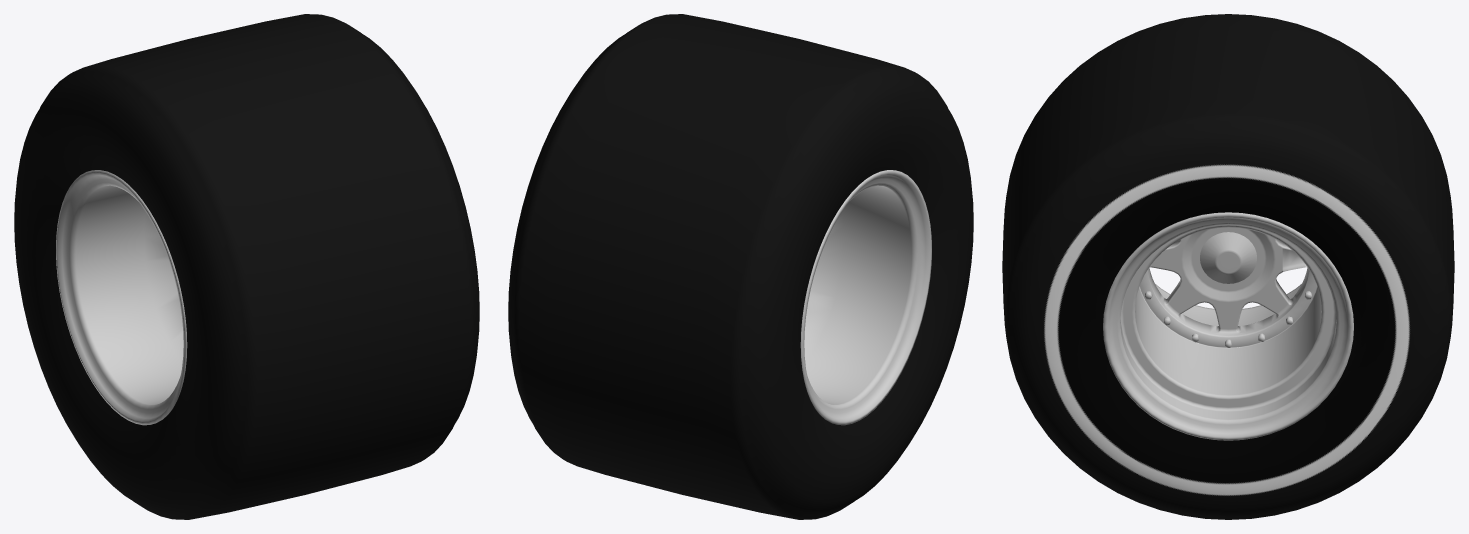
File: Wheel.fbx
3 renders of one model, left to right at view 1: azimuth 30°, elevation 25°; view 2: azimuth 150°, elevation 25°; view 3: azimuth 270°, elevation 25°, orthographic. The views are drawn at different scales.
Parts seen in each view (by area): view 1: Wheel; view 2: Wheel; view 3: Wheel.
Part boxes in pixels (box(x1,y1,x2,y2)): Wheel: box(14, 14, 479, 519); Wheel: box(508, 14, 973, 519); Wheel: box(1002, 14, 1454, 519).
Size of the model in its own units: 52.63 by 80.13 by 80.13.
